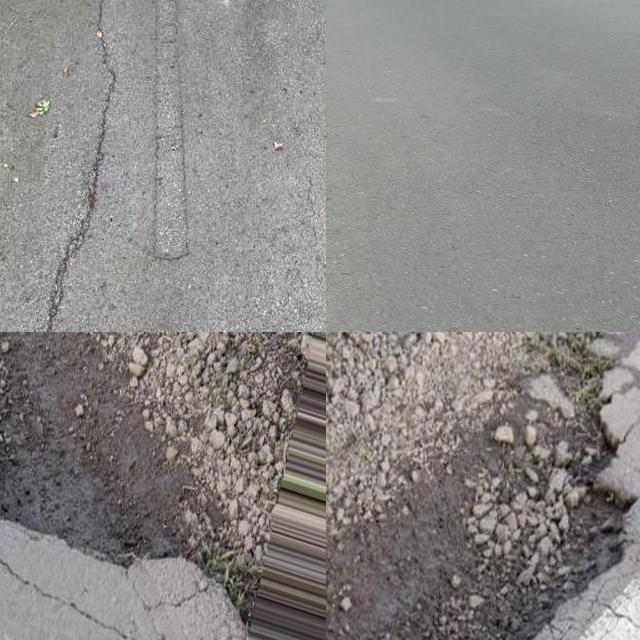Memanjang: (24, 0, 131, 332)
Pinggir: (326, 332, 640, 640), (0, 332, 242, 583)
